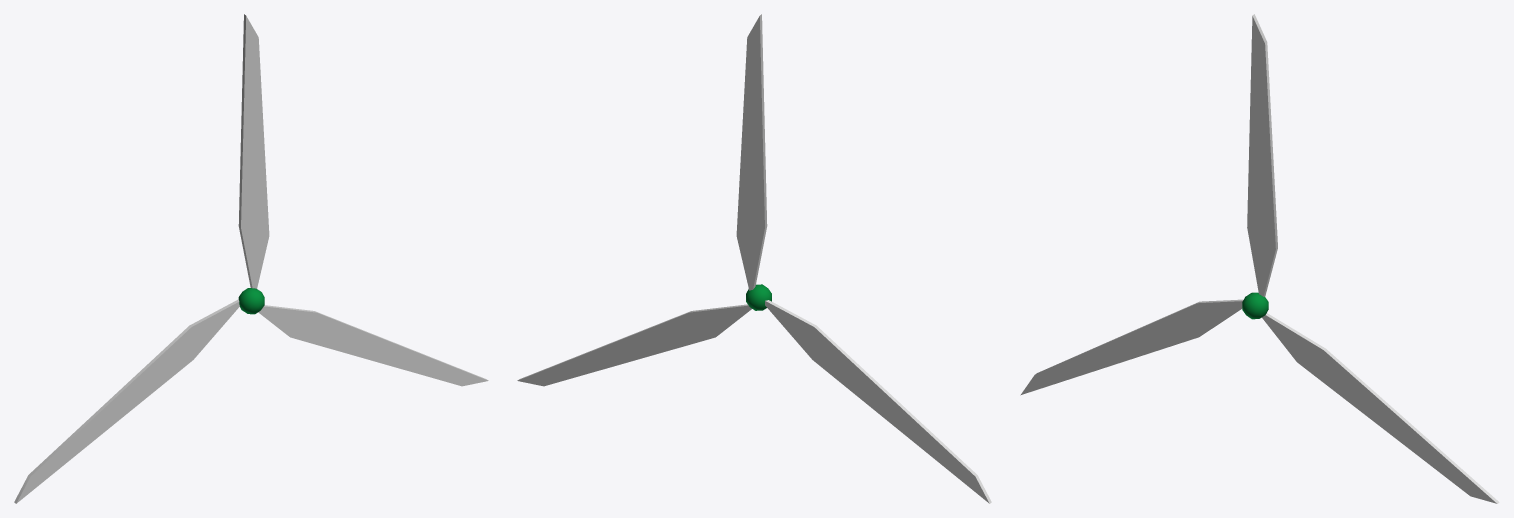
Rendered from turbine_rotor.glb.
3 renders of one model, left to right at view 1: azimuth 30°, elevation 25°; view 2: azimuth 150°, elevation 25°; view 3: azimuth 330°, elevation 25°, orthographic.
Visible parts, largest first — view 1: rotor-2_white, rotor-0_white, rotor-1_white, hub-cap_green; view 2: rotor-2_white, rotor-0_white, rotor-1_white; view 3: rotor-1_white, rotor-0_white, rotor-2_white, hub-cap_green.
Part boxes in pixels (box(x1,y1,x2,y2)): rotor-2_white: box(14, 299, 239, 503); rotor-0_white: box(238, 14, 269, 288); rotor-1_white: box(258, 305, 488, 386); hub-cap_green: box(238, 288, 264, 314); rotor-2_white: box(765, 300, 991, 503); rotor-0_white: box(736, 14, 767, 290); rotor-1_white: box(517, 304, 751, 386); rotor-1_white: box(1262, 313, 1499, 503); rotor-0_white: box(1247, 14, 1277, 296); rotor-2_white: box(1020, 299, 1243, 395); hub-cap_green: box(1242, 292, 1268, 319).
Size of the model in its own units: 19.92 by 17.41 by 1.
